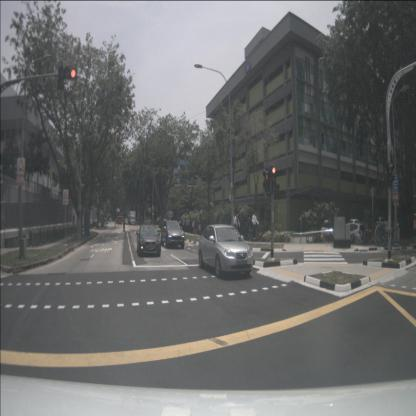human-pedestrian-adult: (251, 210, 259, 242), (233, 212, 237, 240), (236, 214, 240, 240), (198, 217, 202, 237), (182, 217, 186, 232), (194, 217, 197, 236), (192, 218, 195, 236), (186, 218, 189, 233), (73, 213, 75, 227), (90, 217, 92, 230), (114, 218, 116, 228), (109, 216, 111, 224)
vehicle-car: (198, 224, 254, 278), (136, 224, 161, 256), (161, 221, 185, 249), (321, 220, 343, 241), (343, 223, 365, 242), (371, 218, 390, 233), (346, 219, 360, 231), (117, 215, 122, 225)
vehicle-truck: (129, 211, 136, 225)
